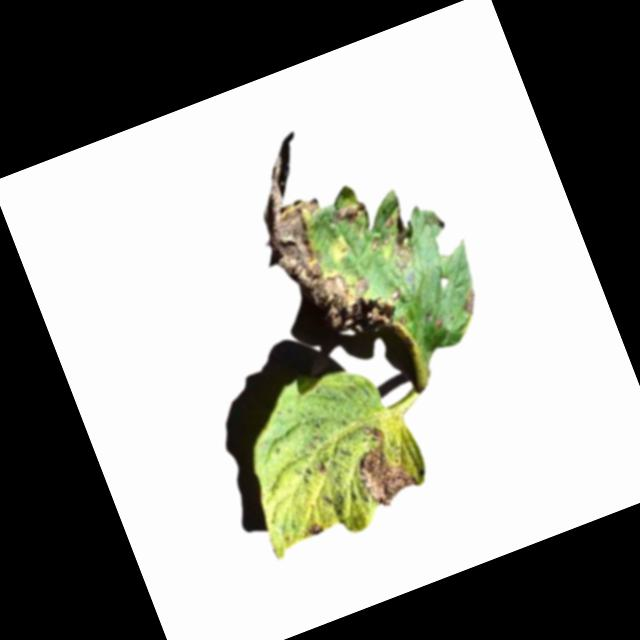Early_blight: (236, 116, 399, 347), (343, 413, 421, 512), (364, 205, 427, 276), (453, 284, 483, 320), (301, 519, 325, 540)
